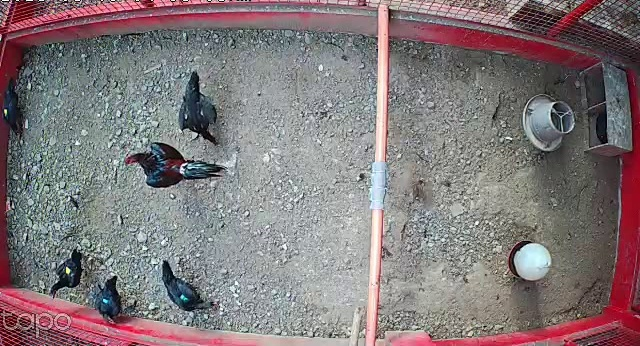Chicken: (172, 71, 225, 146), (160, 258, 218, 310), (49, 245, 86, 301), (1, 71, 29, 142), (93, 271, 125, 329)
Rooster: (122, 141, 223, 190)
Saddle_Color_Blue: (102, 297, 110, 303)
Saddle_Color_Yellow: (63, 266, 75, 276)
Saddle_Color_YellowGreen: (4, 108, 10, 121)
